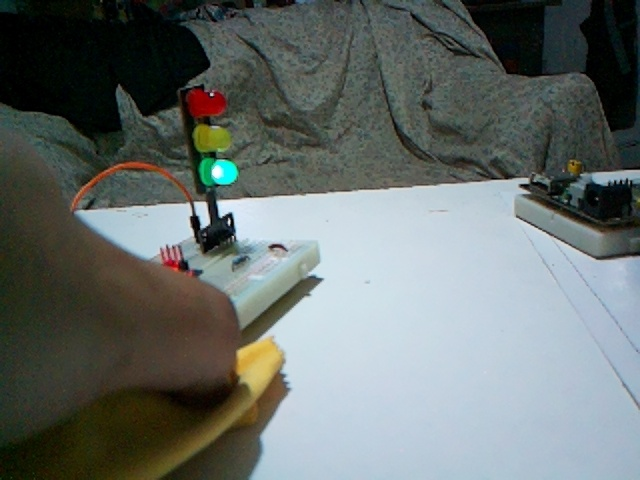traffic_light_green: (182, 84, 239, 246), (181, 85, 238, 189)
